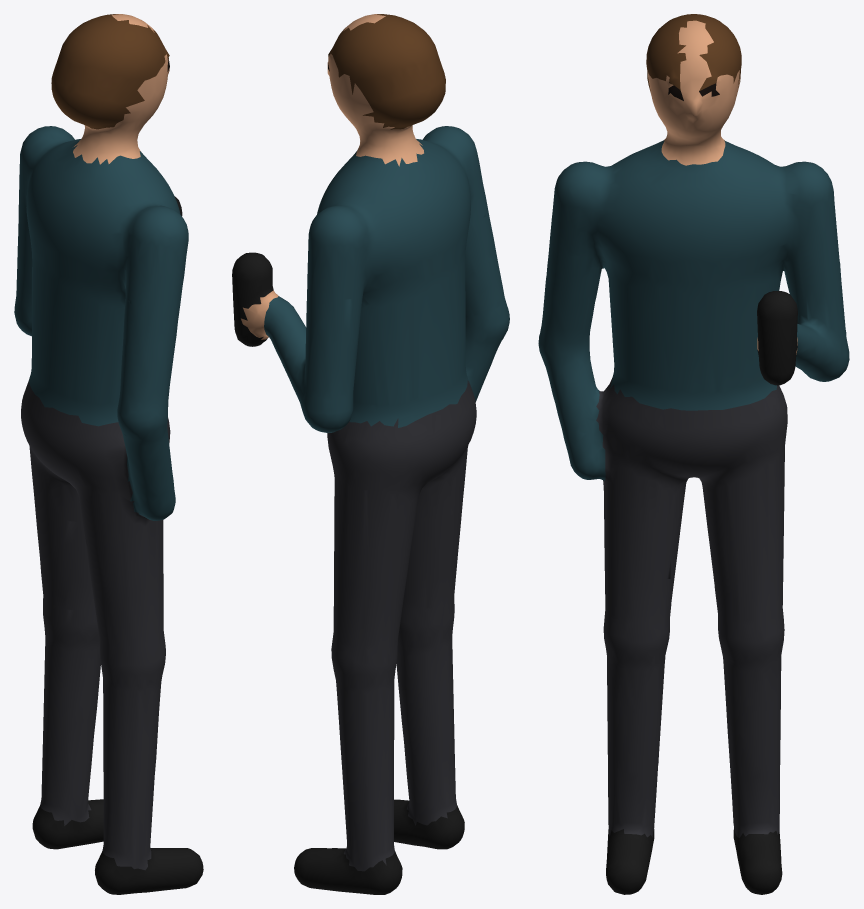
The model's file is SM_Crowd_Standing_B.glb.
The picture shows the model from 3 angles, left to right: view 1: azimuth 30°, elevation 25°; view 2: azimuth 150°, elevation 25°; view 3: azimuth 270°, elevation 25°; orthographic projection.
Visible parts, largest first — view 1: SM_Crowd_Standing_B; view 2: SM_Crowd_Standing_B; view 3: SM_Crowd_Standing_B.
Boxes of the visible parts, box(x1,y1,x2,y2) form: SM_Crowd_Standing_B: box(14, 14, 203, 894); SM_Crowd_Standing_B: box(232, 14, 509, 894); SM_Crowd_Standing_B: box(538, 14, 849, 894).
Bounding box in the file's own units: 0.4086 × 1.81 × 0.5967.
